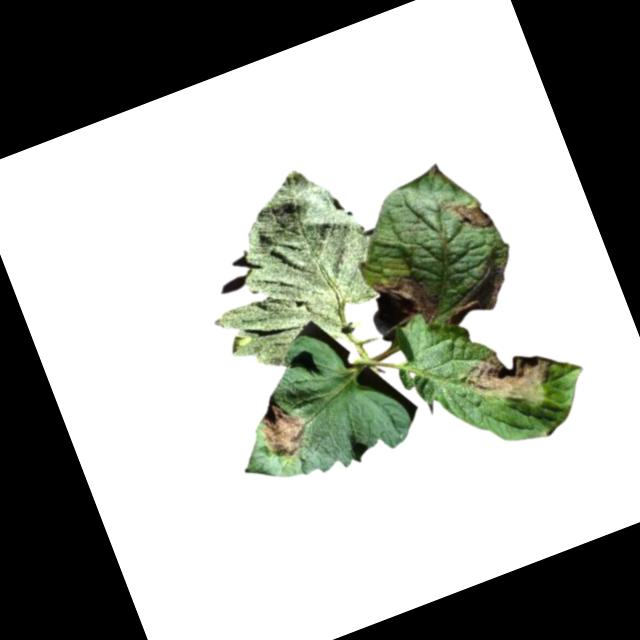Late_blight: (458, 328, 566, 424), (434, 264, 520, 330), (372, 265, 438, 335), (251, 391, 313, 464), (452, 188, 497, 238)
healthy: (176, 154, 407, 386)
